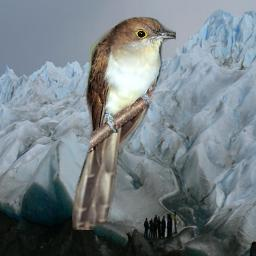Cuckoo: (72, 15, 176, 230)
